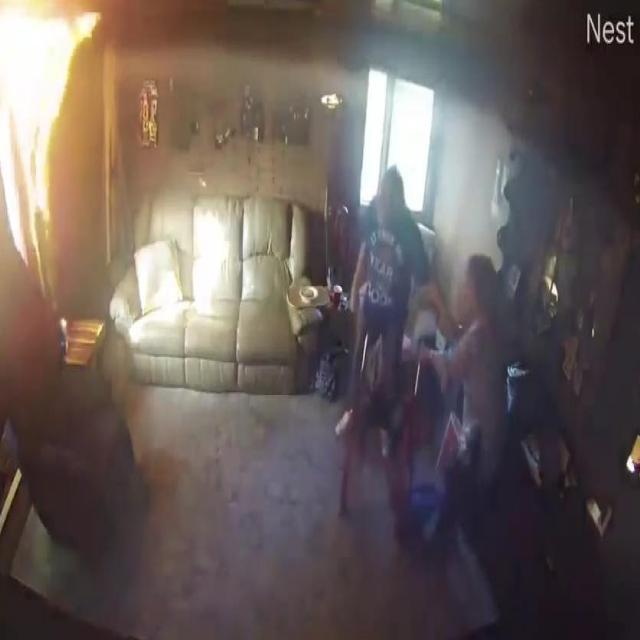smoke: (0, 8, 103, 263)
